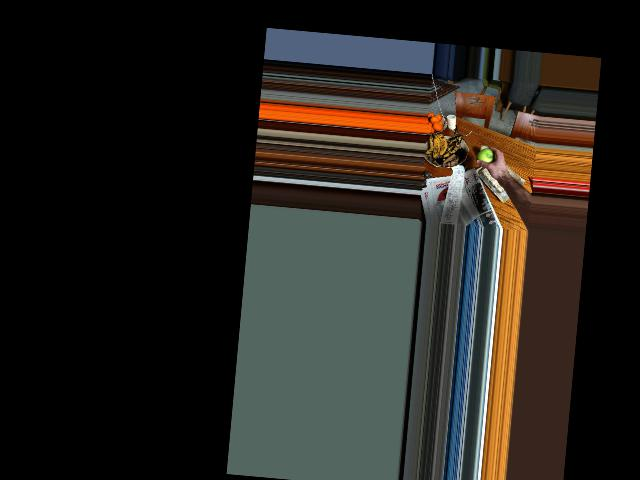apple: (476, 145, 499, 167)
